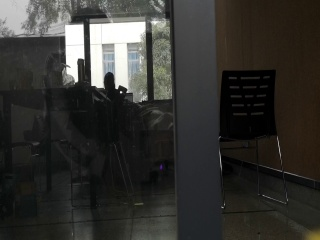room: (7, 2, 319, 240)
